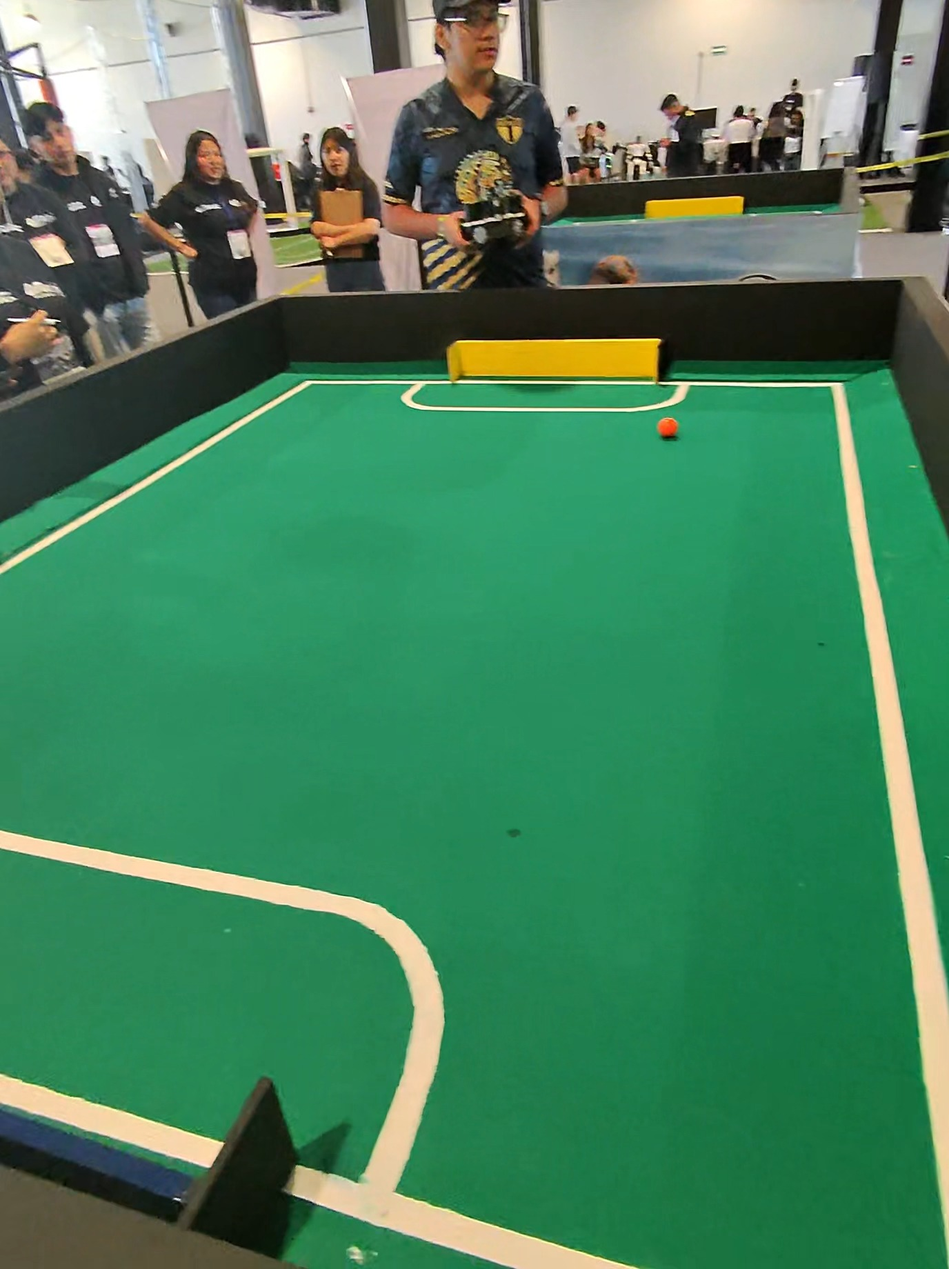pelota: (640, 405, 701, 465)
